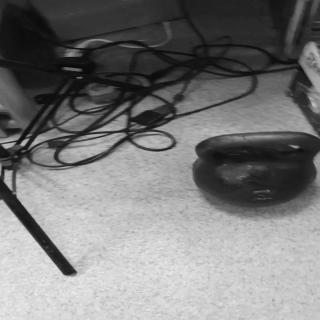girya: (192, 132, 320, 208)
